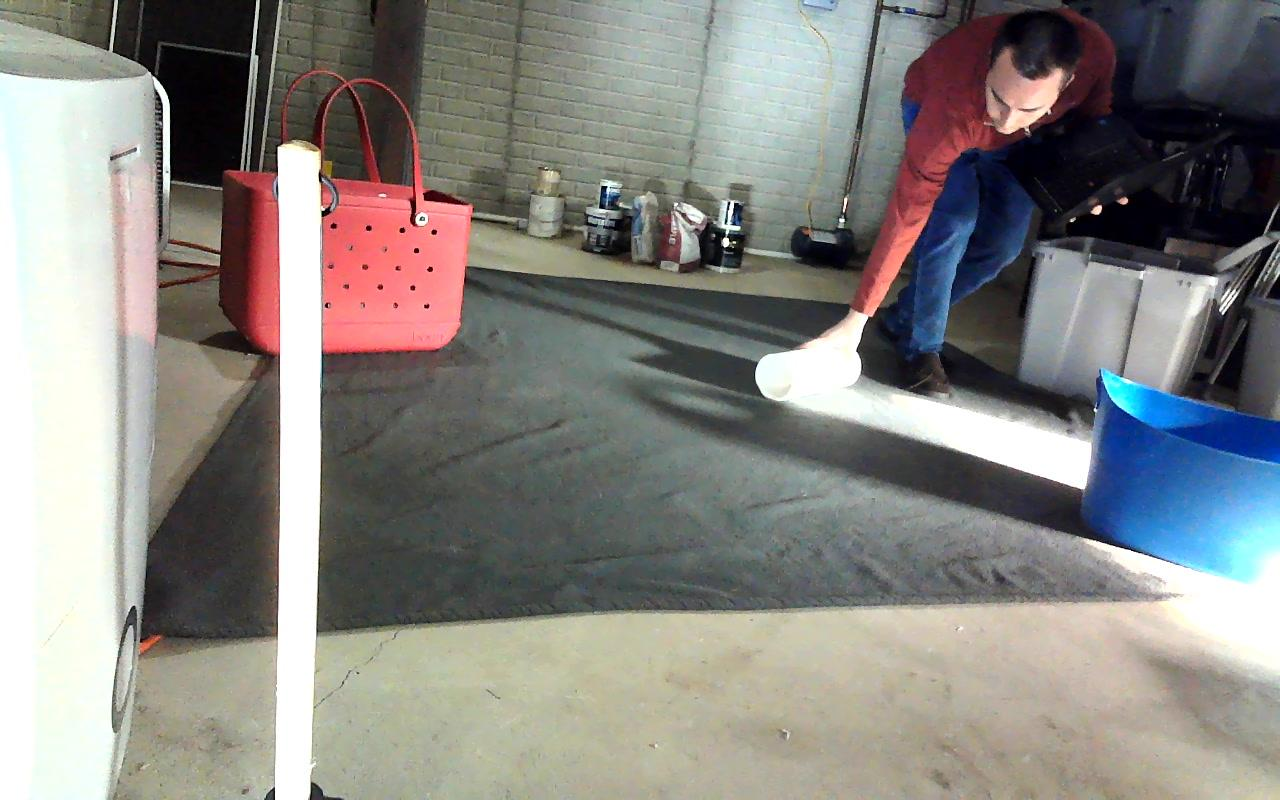coral: (755, 341, 860, 401)
